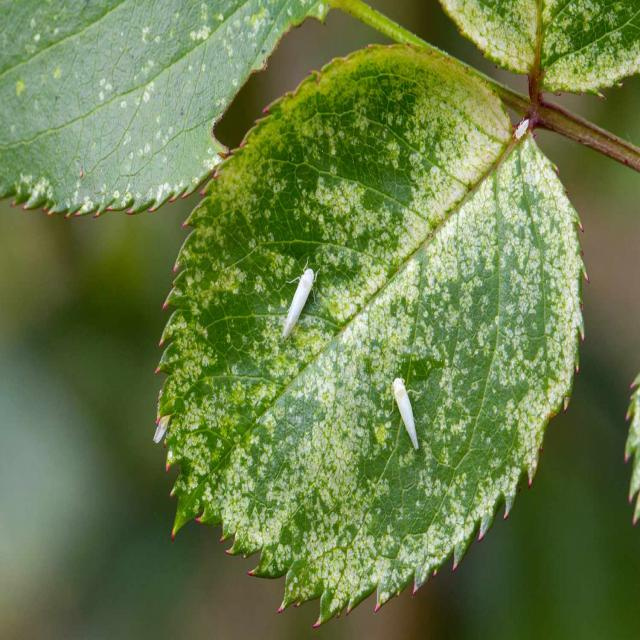Yechan: (275, 251, 322, 347), (384, 365, 424, 454)
